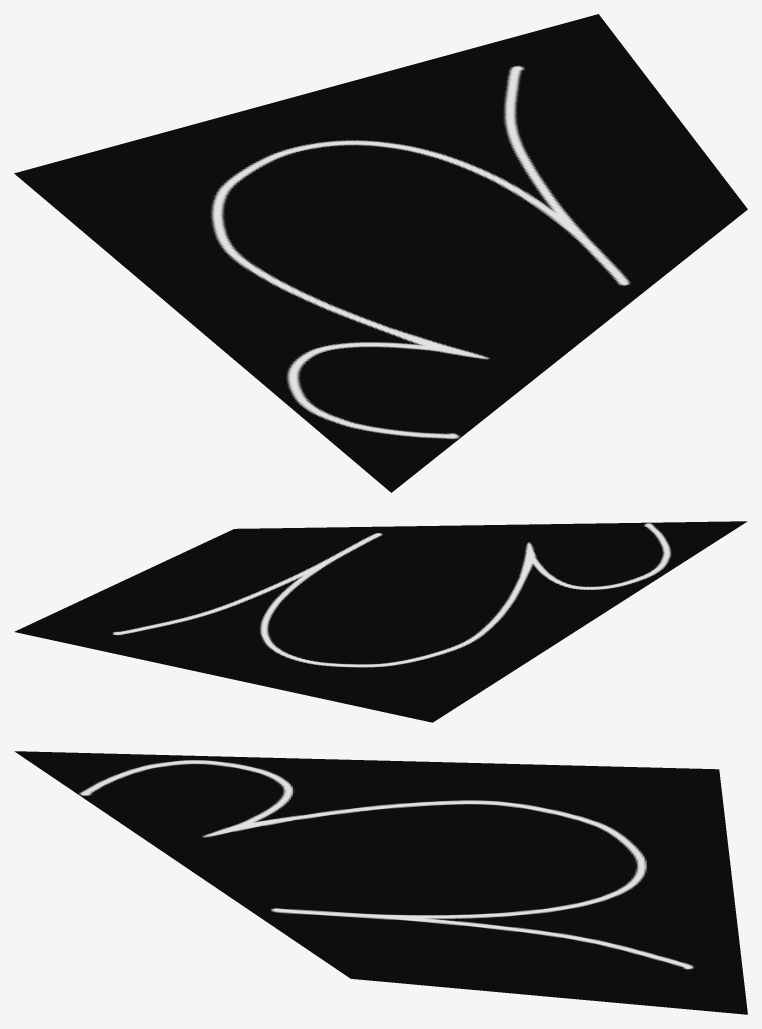
File: SM_line_lump_8.fbx
3 views of the same model, one above another, from view 1: azimuth 30°, elevation 25°; view 2: azimuth 150°, elevation 25°; view 3: azimuth 270°, elevation 25° (orthographic). The views are drawn at different scales.
Parts seen in each view (by area): view 1: SM_line_lump_8; view 2: SM_line_lump_8; view 3: SM_line_lump_8.
Part boxes in pixels (<box>): SM_line_lump_8: <box>14,14,747,492</box>; SM_line_lump_8: <box>14,521,747,722</box>; SM_line_lump_8: <box>14,751,747,1014</box>.
Bounding box in the file's own units: 60.26 × 0 × 70.9.
